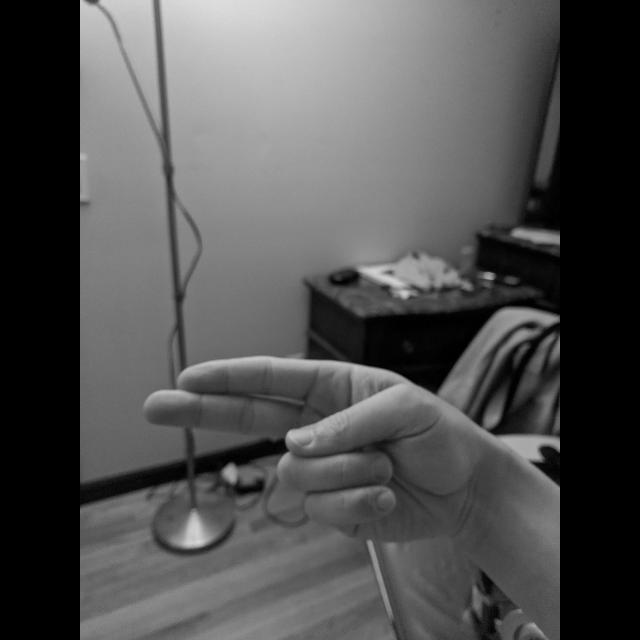H: (138, 349, 478, 546)
